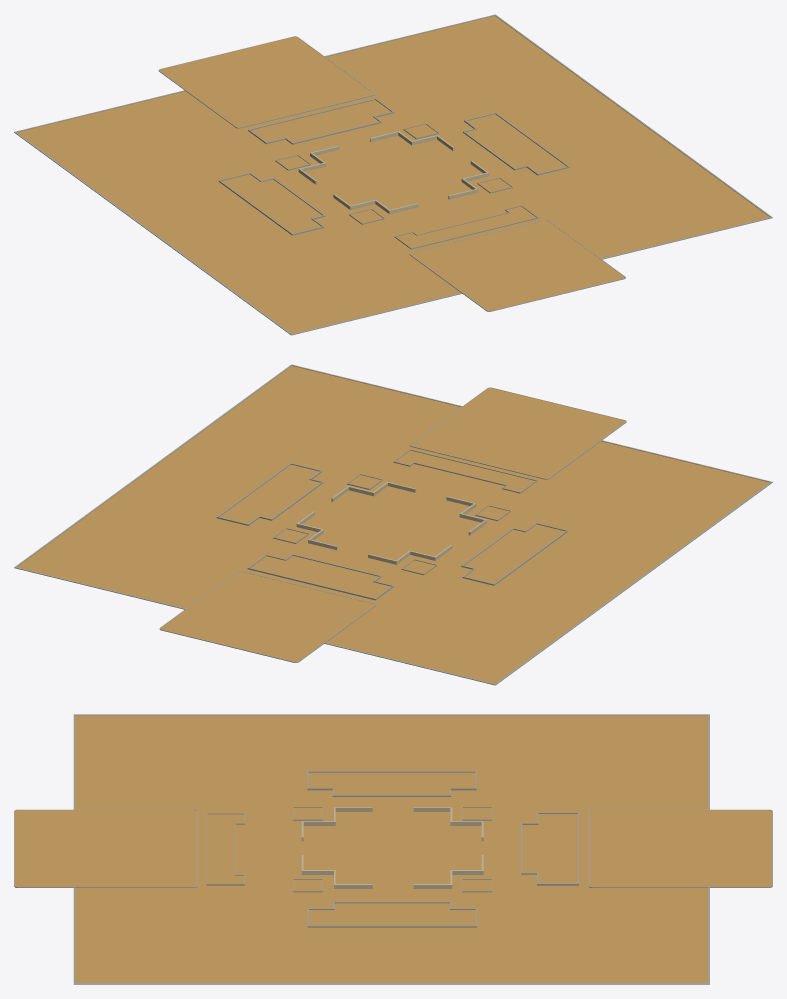
The model's file is Ground D8.fbx.
The picture shows the model from 3 angles, top to bottom: view 1: azimuth 30°, elevation 25°; view 2: azimuth 150°, elevation 25°; view 3: azimuth 270°, elevation 25°; orthographic projection. The views are drawn at different scales.
Visible parts, largest first — view 1: Plane.973, Plane.980, Plane.932, Plane.013, Plane.006, Plane.012, Plane.014, Plane.1050; view 2: Plane.973, Plane.980, Plane.932, Plane.013, Plane.006, Plane.012, Plane.014, Plane.1050; view 3: Plane.973, Plane.980, Plane.932, Plane.012, Plane.006, Plane.013, Plane.014, Plane.1050.
Boxes of the visible parts, x1,y1,x2,y2 form: Plane.973: (14, 14, 772, 335); Plane.980: (409, 219, 625, 311); Plane.932: (158, 36, 375, 128); Plane.013: (248, 98, 394, 144); Plane.006: (218, 172, 325, 235); Plane.012: (463, 112, 569, 175); Plane.014: (394, 205, 538, 249); Plane.1050: (298, 131, 488, 214); Plane.973: (14, 364, 772, 685); Plane.980: (410, 387, 626, 479); Plane.932: (159, 571, 375, 662); Plane.013: (247, 554, 393, 600); Plane.006: (461, 523, 567, 585); Plane.012: (216, 463, 323, 525); Plane.014: (393, 449, 537, 493); Plane.1050: (296, 482, 486, 564); Plane.973: (73, 714, 709, 984); Plane.980: (14, 809, 197, 887); Plane.932: (589, 809, 772, 887); Plane.012: (307, 901, 476, 927); Plane.006: (307, 771, 476, 796); Plane.013: (521, 812, 578, 885); Plane.014: (206, 813, 244, 885); Plane.1050: (301, 807, 483, 888).
Size of what is drawn, in the model's own units: 47662 by 353 by 56717.
